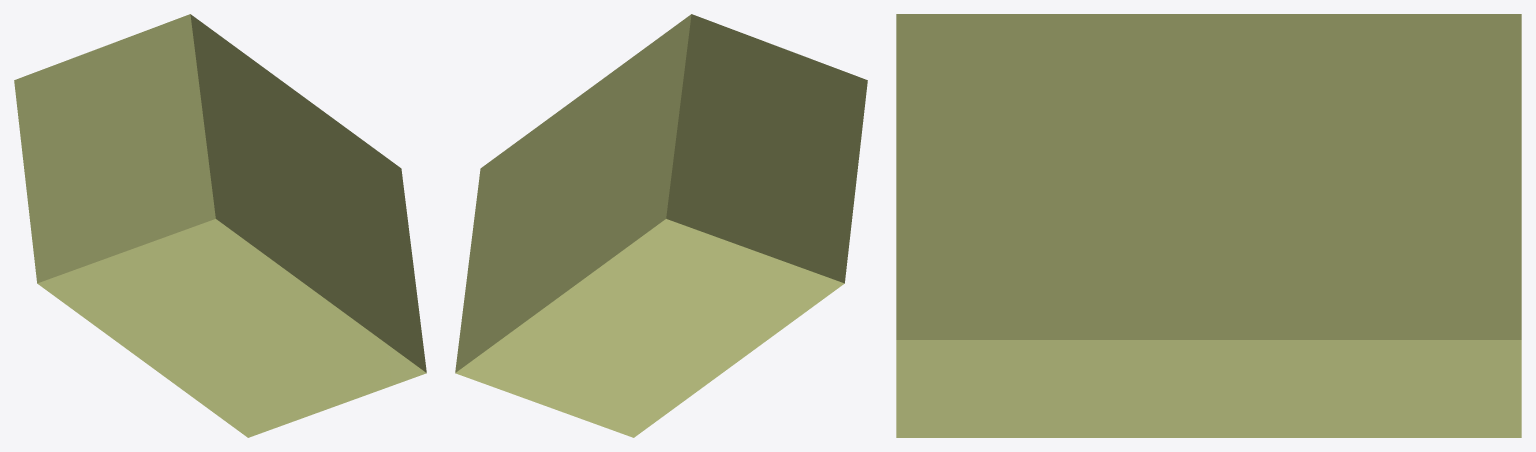
3 renders of one model, left to right at view 1: azimuth 30°, elevation 25°; view 2: azimuth 150°, elevation 25°; view 3: azimuth 270°, elevation 25°, orthographic. The views are drawn at different scales.
Visible parts, largest first — view 1: 0_2_0_1_2_2_2_2_0_1_1; view 2: 0_2_0_1_2_2_2_2_0_1_1; view 3: 0_2_0_1_2_2_2_2_0_1_1.
Part boxes in pixels (x1,y1,x2,y2): 0_2_0_1_2_2_2_2_0_1_1: (14,14,426,437); 0_2_0_1_2_2_2_2_0_1_1: (455,14,867,437); 0_2_0_1_2_2_2_2_0_1_1: (896,14,1521,437).
Bounding box in the file's own units: 4.97 × 5.46 × 9.
